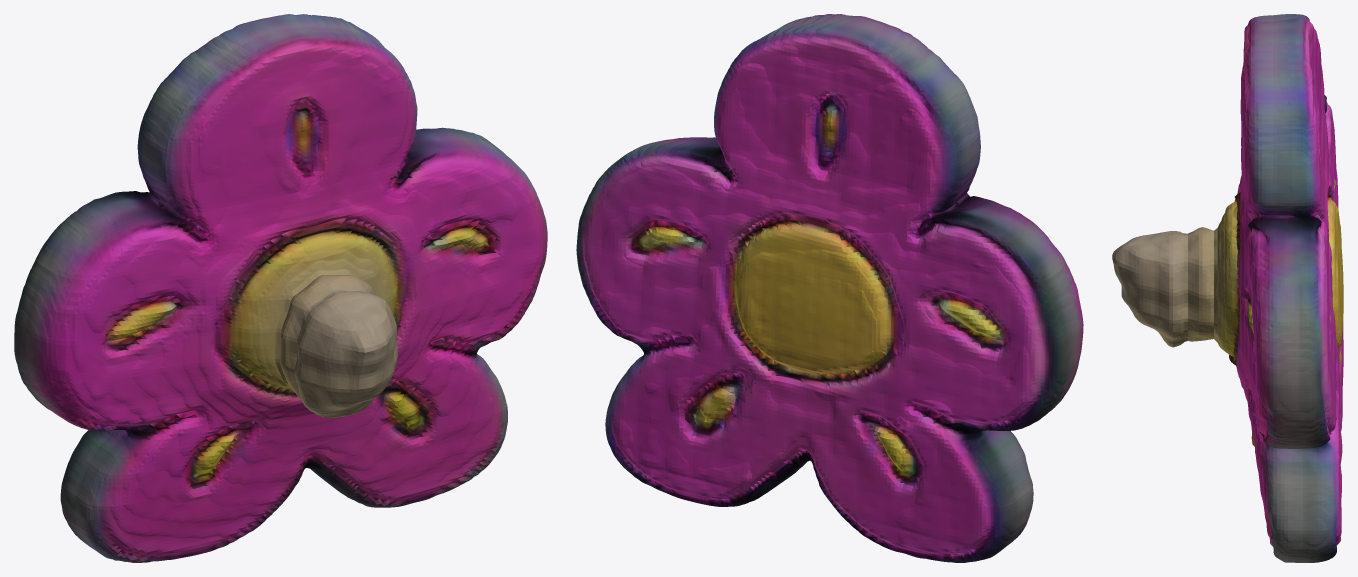
3 views of the same model, side by side, from view 1: azimuth 30°, elevation 25°; view 2: azimuth 150°, elevation 25°; view 3: azimuth 270°, elevation 25° (orthographic). The views are drawn at different scales.
Parts seen in each view (by area): view 1: world; view 2: world; view 3: world.
Part boxes in pixels (x1,y1,x2,y2): world: (14, 14, 547, 562); world: (576, 14, 1083, 562); world: (1112, 14, 1343, 562).
Bounding box in the file's own units: 0.9683 × 0.9307 × 0.4258.
